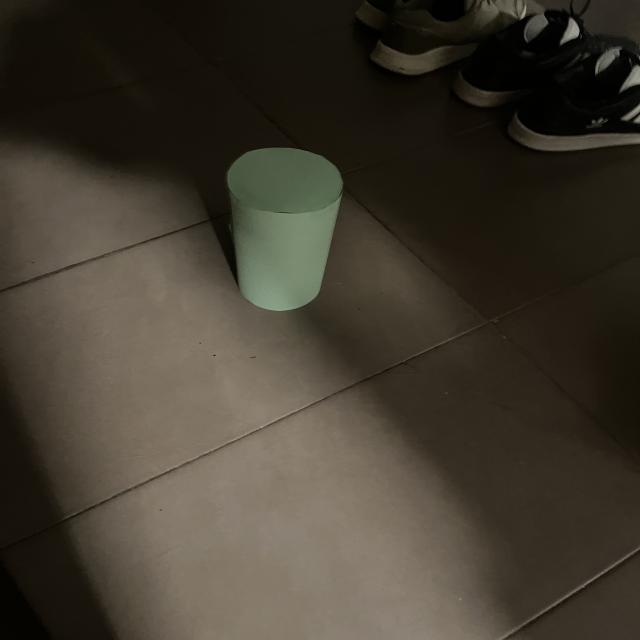meta: (226, 148, 343, 311)
